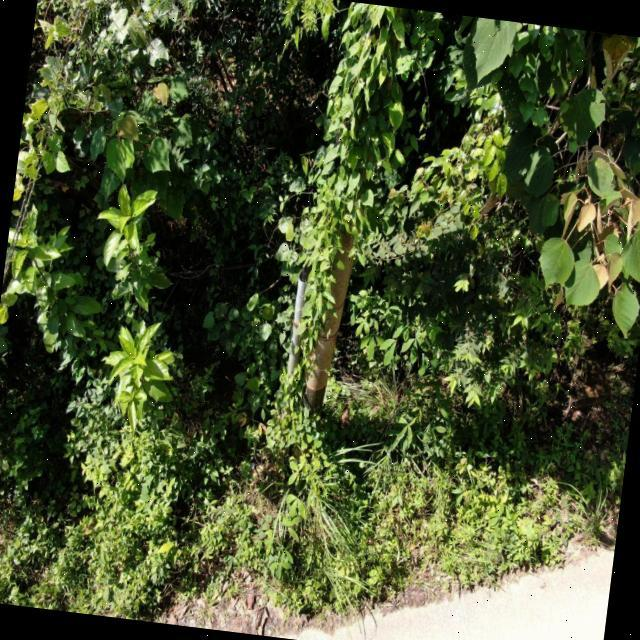critical vegetation: (263, 37, 390, 470)
